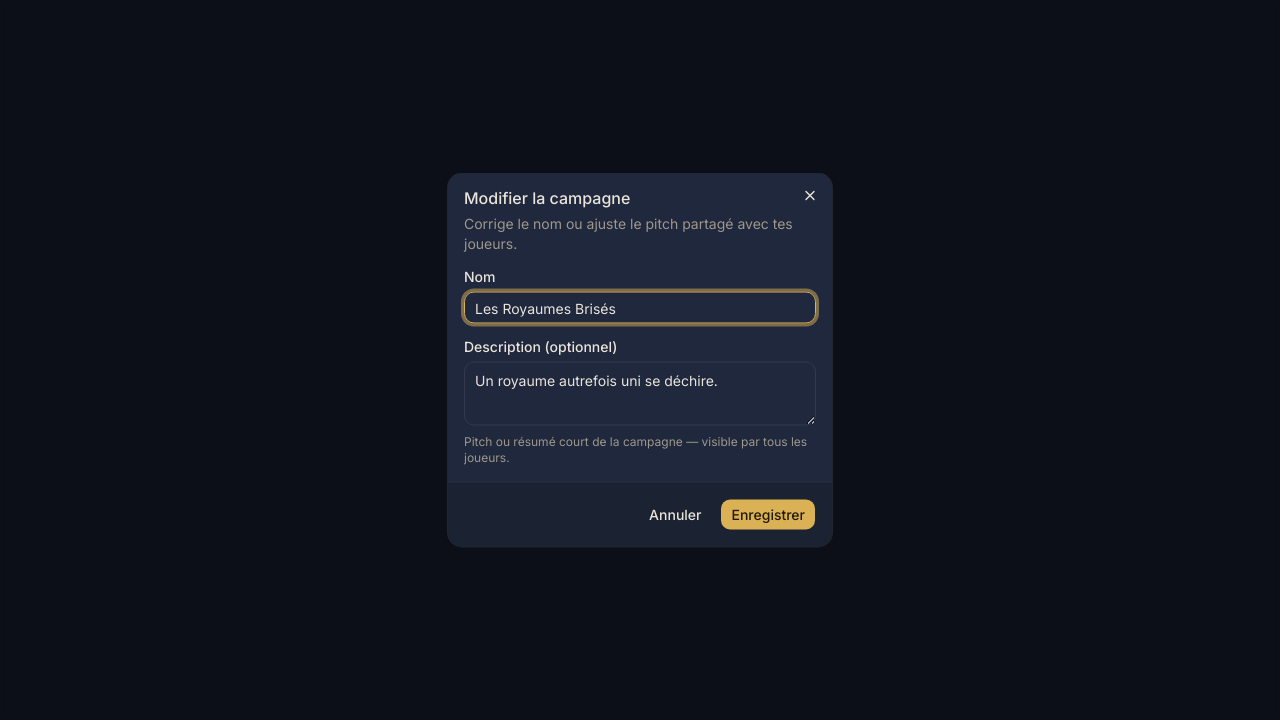
Test: <CampaignEditDialog> › rejects an empty name with the French zod error
Clear the field labelled "Nom" at (640, 308), box [464,292,816,324]
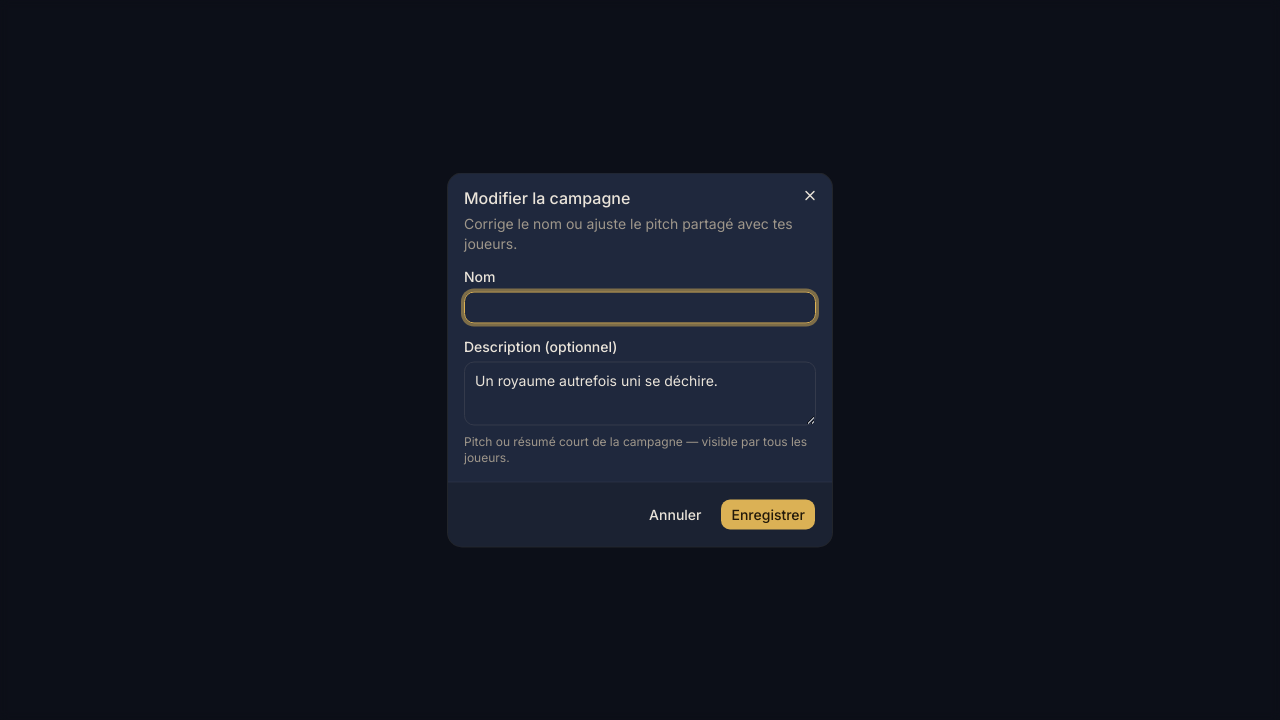
Click the button "Enregistrer" at (768, 514), box [720,498,816,530]
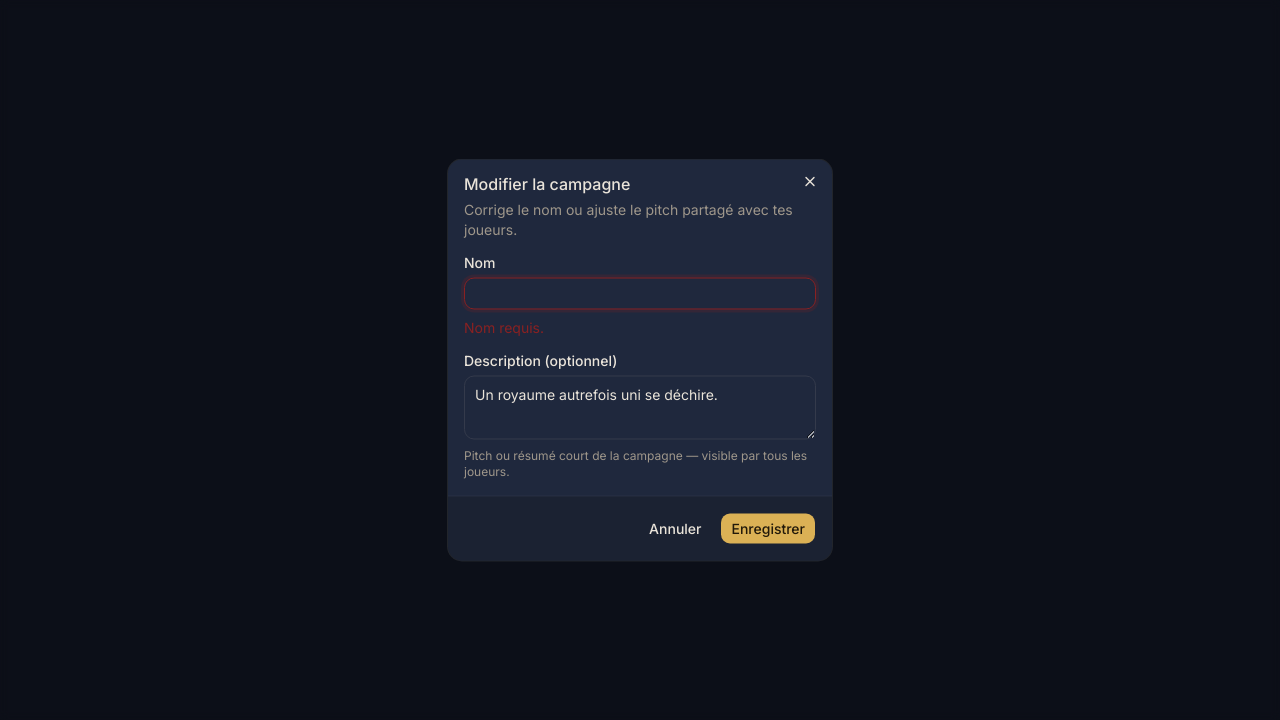
Now the text "Nom requis." is shown, box [464,318,544,336]
